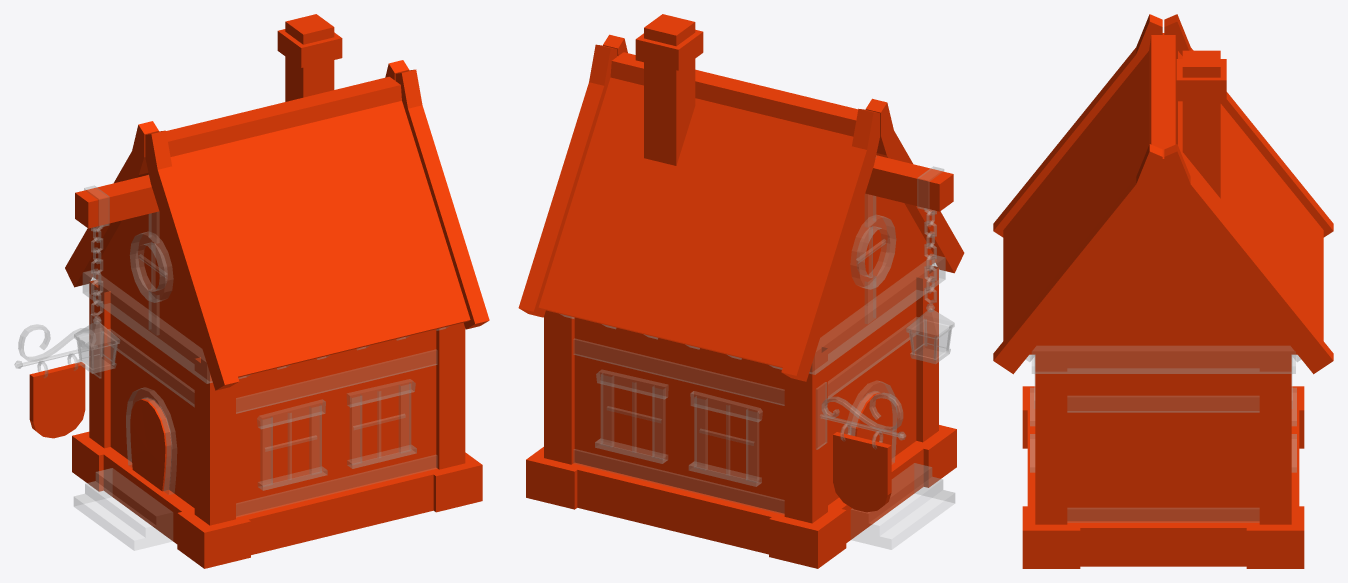
Rendered from arch.glb.
3 views of the same model, side by side, from view 1: azimuth 30°, elevation 25°; view 2: azimuth 150°, elevation 25°; view 3: azimuth 270°, elevation 25° (orthographic). The views are drawn at different scales.
Parts seen in each view (by area): view 1: 03_krisha, 00_steni, 32_fundament, 02_stolby_krisha, 01_stolbi, 04_krisha_bok, 15_balki_goriz_2, 14_balki_goriz, 31_lestnica, 25_viveska, 17_rama_okno_goriz, 18_rama_okno_vertik (+10 smaller); view 2: 03_krisha, 00_steni, 32_fundament, 02_stolby_krisha, 01_stolbi, 04_krisha_bok, 15_balki_goriz_2, 08_truba, 14_balki_goriz, 31_lestnica, 25_viveska, 18_rama_okno_vertik (+13 smaller); view 3: 00_steni, 03_krisha, 04_krisha_bok, 02_stolby_krisha, 32_fundament, 14_balki_goriz, 01_stolbi, 08_truba, 09_truba_1, 17_rama_okno_goriz.
Part boxes in pixels (box(x1,y1,x2,y2)): 03_krisha: box(166, 76, 470, 377); 00_steni: box(98, 281, 436, 516); 32_fundament: box(72, 431, 482, 568); 02_stolby_krisha: box(65, 60, 489, 390); 01_stolbi: box(89, 280, 465, 525); 04_krisha_bok: box(91, 174, 205, 359); 15_balki_goriz_2: box(236, 350, 437, 517); 14_balki_goriz: box(83, 270, 212, 406); 31_lestnica: box(74, 468, 172, 550); 25_viveska: box(29, 362, 85, 438); 17_rama_okno_goriz: box(257, 379, 416, 490); 18_rama_okno_vertik: box(260, 383, 410, 486); 03_krisha: box(538, 52, 858, 367); 00_steni: box(574, 267, 929, 513); 32_fundament: box(526, 425, 956, 568); 02_stolby_krisha: box(518, 34, 964, 381); 01_stolbi: box(544, 265, 938, 523); 04_krisha_bok: box(816, 193, 936, 348); 15_balki_goriz_2: box(573, 339, 784, 514); 08_truba: box(644, 14, 695, 165); 14_balki_goriz: box(809, 255, 945, 398); 31_lestnica: box(851, 463, 954, 549); 25_viveska: box(833, 432, 891, 512); 18_rama_okno_vertik: box(601, 373, 758, 482); 00_steni: box(1041, 354, 1285, 521); 03_krisha: box(1003, 33, 1323, 340); 04_krisha_bok: box(1029, 159, 1297, 354); 02_stolby_krisha: box(993, 14, 1333, 374); 32_fundament: box(1022, 386, 1304, 568); 14_balki_goriz: box(1032, 346, 1295, 522); 01_stolbi: box(1035, 354, 1291, 524); 08_truba: box(1182, 50, 1220, 198); 09_truba_1: box(1176, 59, 1226, 101); 17_rama_okno_goriz: box(1030, 357, 1296, 472).
Size of the model in its own units: 9.13 by 10.93 by 7.26.
